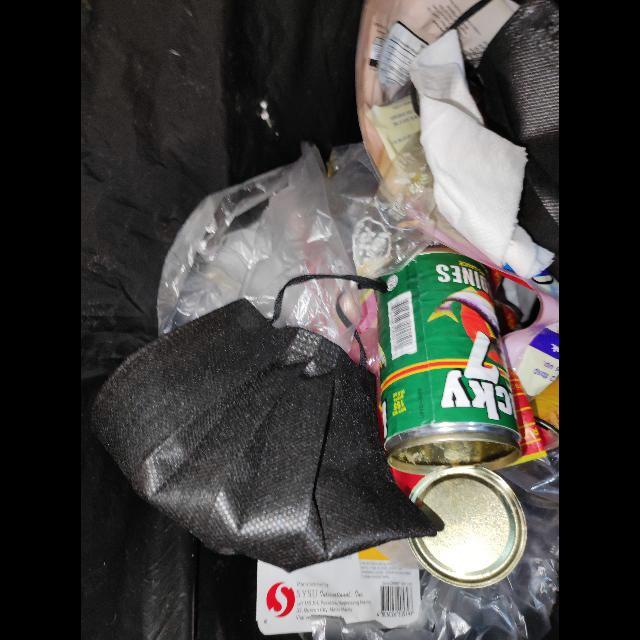aluminum: (377, 253, 526, 586)
paper: (408, 30, 556, 280)
